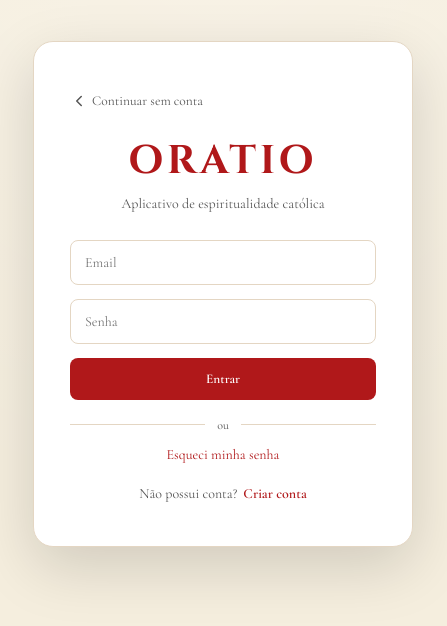
Login › shows a friendly error when login fails
Type "a@b.com" into the field with placeholder "Email".
click(223, 262); type("a@b.com")  # box [70,240,376,285]
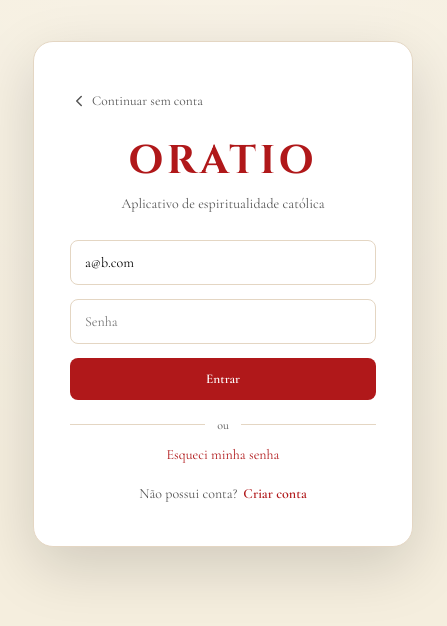
Type "bad" into the password field with placeholder "Senha".
click(223, 321); type("bad")  # box [70,299,376,344]
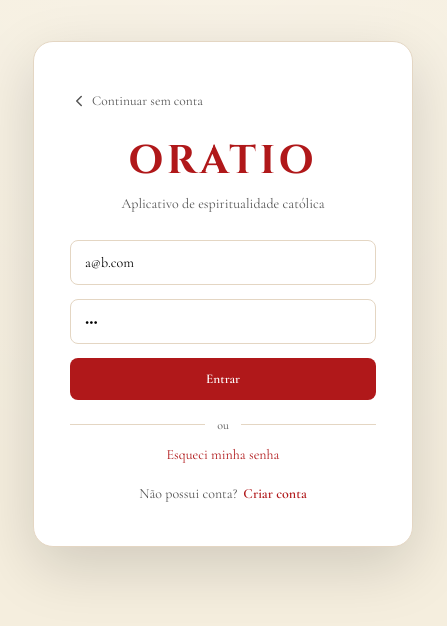
Click the button "Entrar".
click(223, 379)  # box [70,358,376,400]
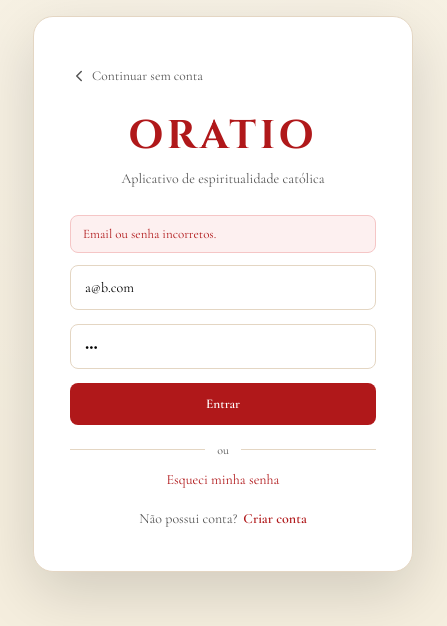
Expected: the text "Email ou senha incorretos." is shown, [70,215,376,253]
